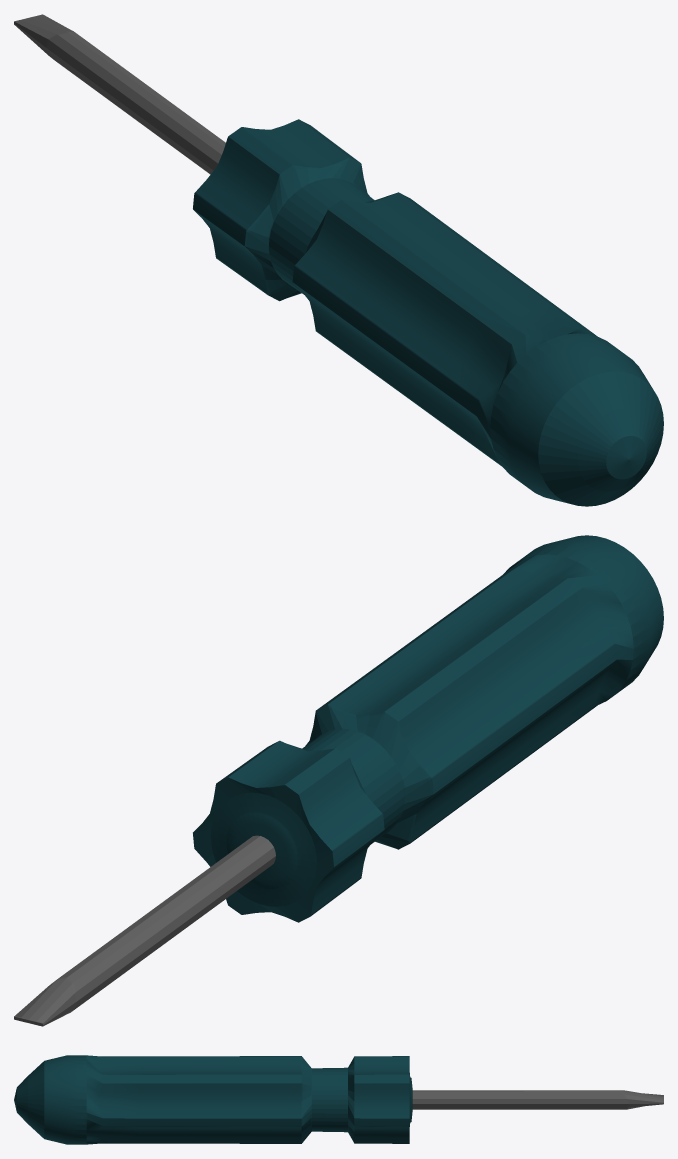
File: screwdriver.fbx
3 renders of one model, top to bottom at view 1: azimuth 30°, elevation 25°; view 2: azimuth 150°, elevation 25°; view 3: azimuth 270°, elevation 25°, orthographic. The views are drawn at different scales.
Visible parts, largest first — view 1: screwdriver; view 2: screwdriver; view 3: screwdriver.
Boxes of the visible parts, x1,y1,x2,y2 form: screwdriver: (14,14,663,506); screwdriver: (14,535,663,1026); screwdriver: (14,1055,663,1144).
Size of the model in its own units: 2.04 by 2.03 by 14.8.
